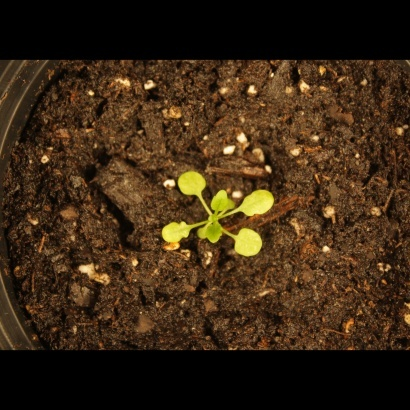leaf: (155, 215, 195, 250), (238, 187, 279, 221), (230, 226, 267, 259), (178, 168, 210, 200), (210, 186, 236, 217), (205, 222, 228, 245)
